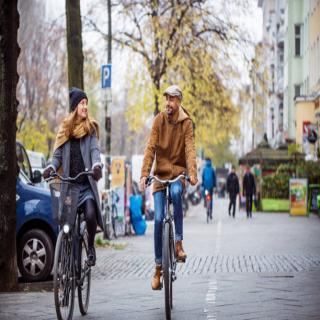Normal_vehicle: (14, 144, 62, 283)
